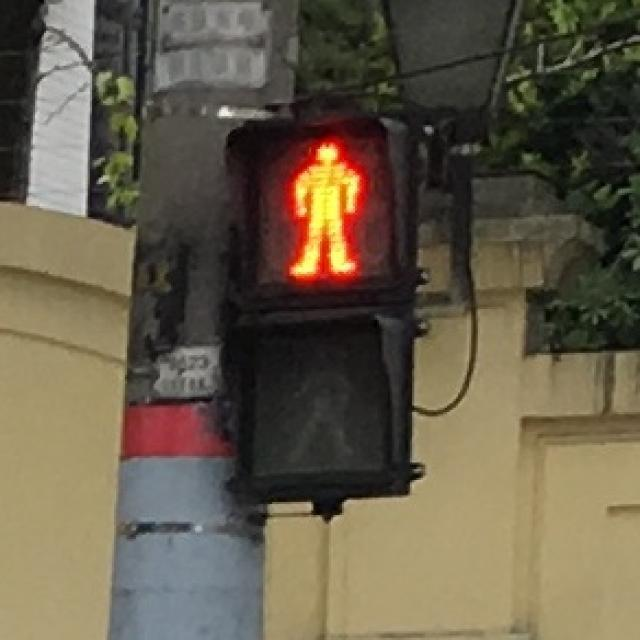red-crossing: (256, 126, 386, 284)
